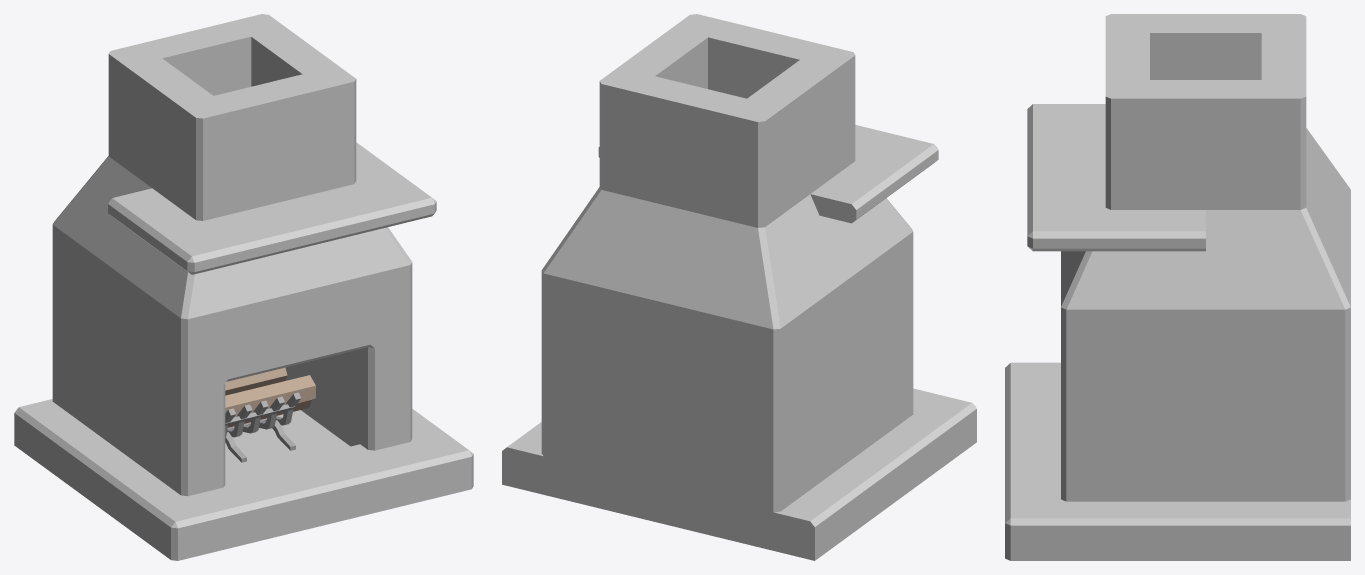
The model's file is FirePlace.fbx.
3 views of the same model, side by side, from view 1: azimuth 30°, elevation 25°; view 2: azimuth 150°, elevation 25°; view 3: azimuth 270°, elevation 25° (orthographic). The views are drawn at different scales.
Visible parts, largest first — view 1: object4.001, object5.001, object3.001, object1.001; view 2: object4.001; view 3: object4.001.
Boxes of the visible parts, bbox=[...] form: object4.001: bbox=[14, 14, 473, 560]; object5.001: bbox=[225, 392, 301, 462]; object3.001: bbox=[225, 375, 315, 417]; object1.001: bbox=[225, 367, 287, 395]; object4.001: bbox=[502, 14, 976, 560]; object4.001: bbox=[1005, 14, 1350, 560].
Size of the model in its own units: 170 by 210 by 155.
